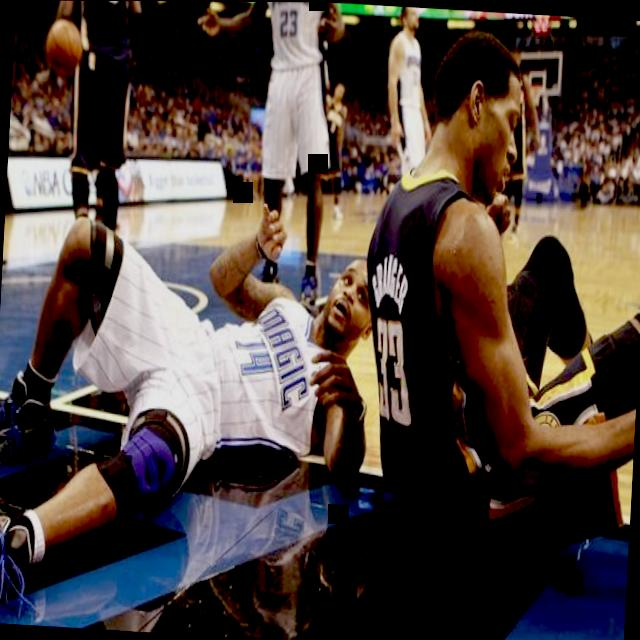Fall-Detected: (329, 18, 640, 582)
